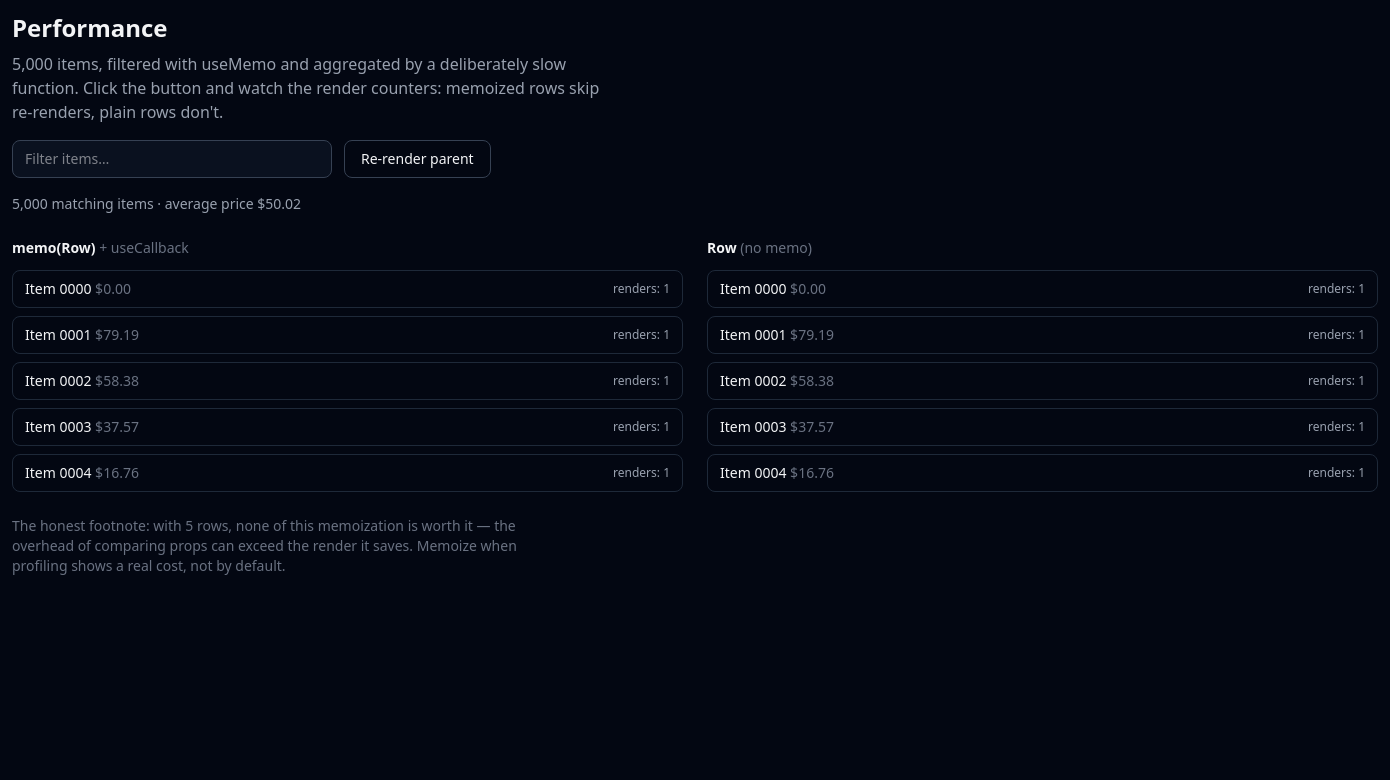
Test: <PerformancePage /> › filters items and recomputes the stats
Check: the text "5,000 matching items · average price $50.02" is shown, box [12,194,301,213]
Step 1. Type "Item 0001" into the search field labelled "Filter items" → [172, 159], box [12,140,332,178]
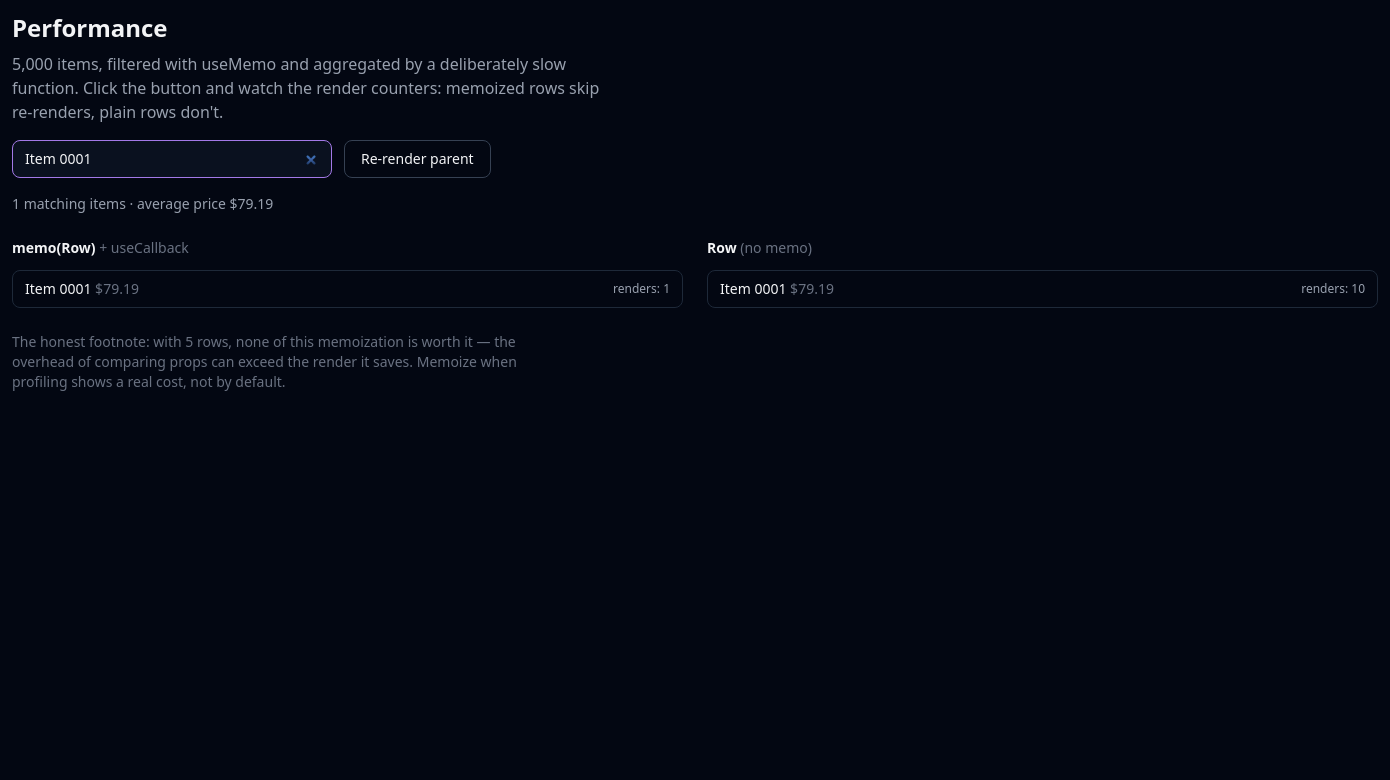
Check: the text "1 matching items · average price $79.19" is shown, box [12,194,273,213]
